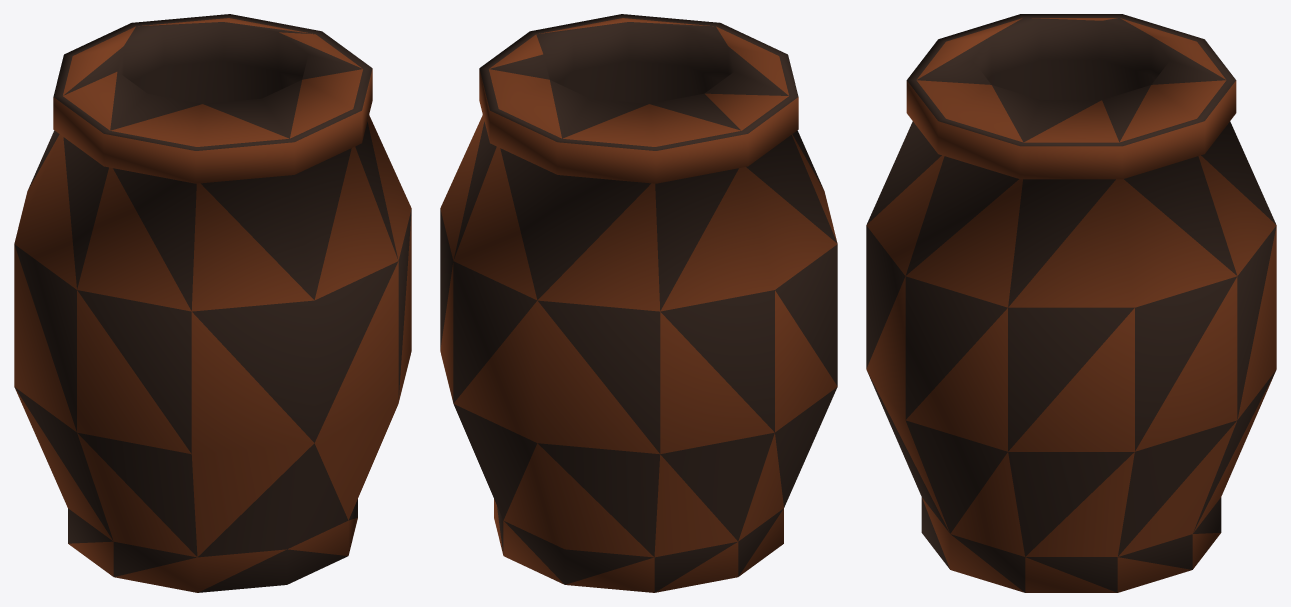
File: Vase.fbx
3 renders of one model, left to right at view 1: azimuth 30°, elevation 25°; view 2: azimuth 150°, elevation 25°; view 3: azimuth 270°, elevation 25°, orthographic.
Visible parts, largest first — view 1: Cylinder.038; view 2: Cylinder.038; view 3: Cylinder.038.
Boxes of the visible parts, x1=… form: Cylinder.038: x1=14, y1=14, x2=411, y2=592; Cylinder.038: x1=440, y1=14, x2=837, y2=592; Cylinder.038: x1=866, y1=14, x2=1276, y2=592.
Size of the model in its own units: 55.15 by 73.66 by 57.99.
